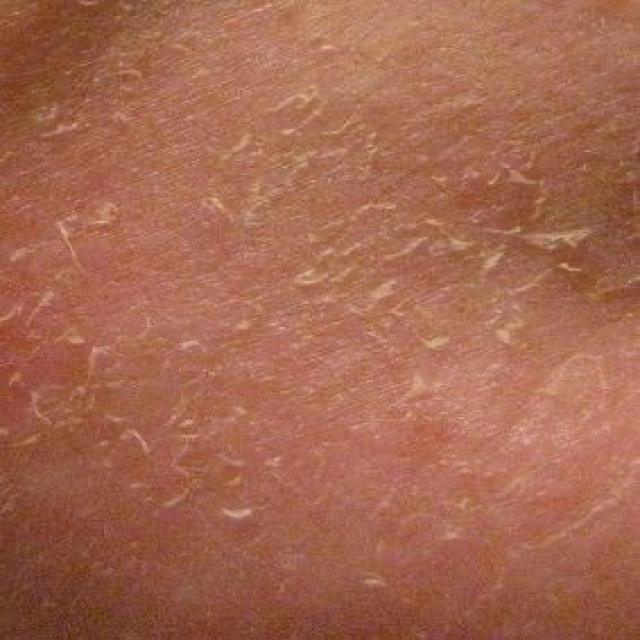dry: (102, 272, 274, 387), (219, 90, 328, 241), (446, 164, 546, 306), (364, 10, 552, 76), (45, 50, 111, 113), (54, 210, 124, 250)
